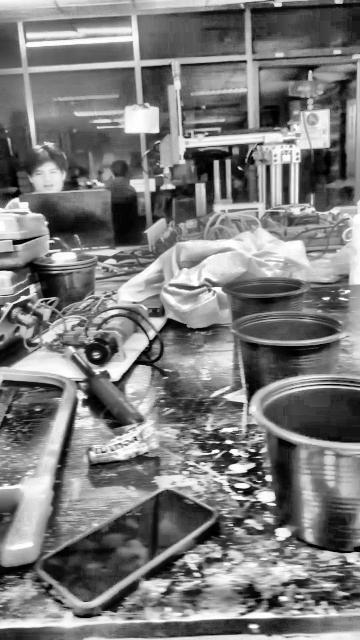pot: (251, 374, 359, 551), (233, 311, 345, 401), (223, 277, 308, 322)
